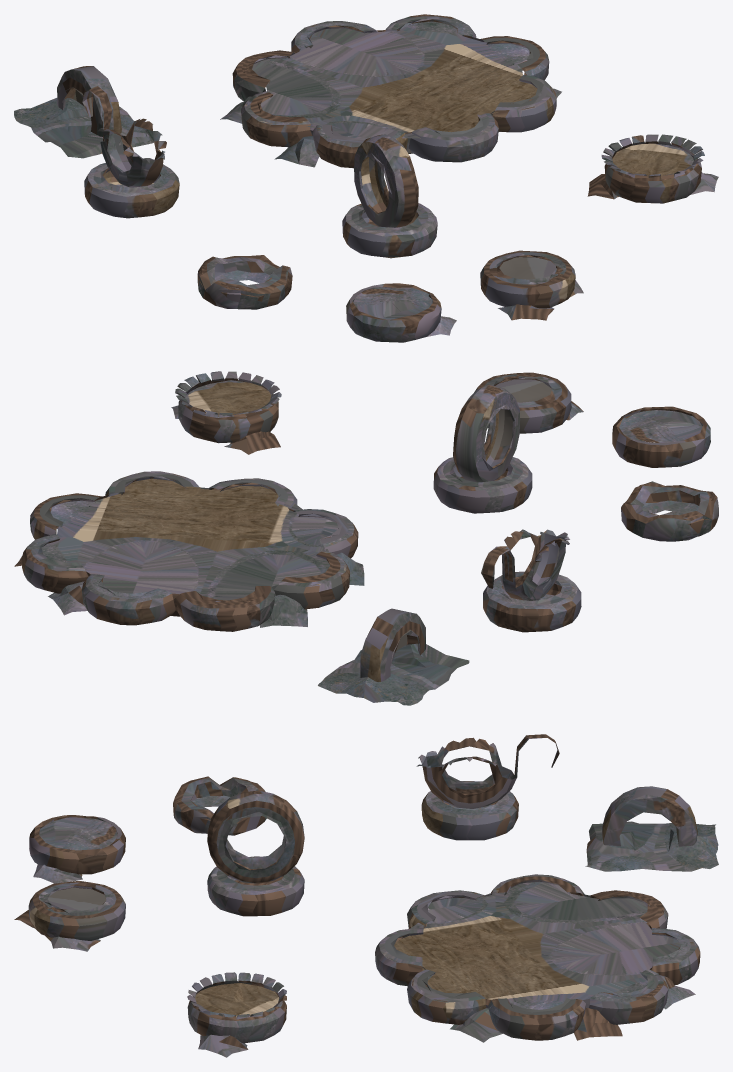
Rendered from КОЛЁСА_louPOLY.fbx.
3 views of the same model, one above another, from view 1: azimuth 30°, elevation 25°; view 2: azimuth 150°, elevation 25°; view 3: azimuth 270°, elevation 25° (orthographic). The views are drawn at different scales.
Parts seen in each view (by area): view 1: Окружность.008, Окружность.007, Окружность.002, Окружность.004, Окружность.003, Окружность.010, Окружность.006, Окружность.001; view 2: Окружность.008, Окружность.007, Окружность.003, Окружность.002, Окружность.004, Окружность.006, Окружность.001, Окружность.010; view 3: Окружность.008, Окружность.007, Окружность.003, Окружность.002, Окружность.004, Окружность.010, Окружность.006, Окружность.001.
Boxes of the visible parts, x1,y1,x2,y2 form: Окружность.008: (220,14,561,168); Окружность.007: (342,134,437,258); Окружность.002: (82,86,179,218); Окружность.004: (587,134,718,203); Окружность.003: (14,66,153,158); Окружность.010: (480,250,583,320); Окружность.006: (346,283,456,342); Окружность.001: (197,255,292,309); Окружность.008: (14,471,364,631); Окружность.007: (433,384,532,513); Окружность.003: (318,608,469,705); Окружность.002: (481,529,581,632); Окружность.004: (171,371,281,454); Окружность.006: (612,406,710,467); Окружность.001: (621,481,718,541); Окружность.010: (474,372,583,433); Окружность.008: (375,874,700,1042); Окружность.007: (207,790,304,916); Окружность.003: (585,786,718,871); Окружность.002: (416,734,559,840); Окружность.004: (187,972,286,1057); Окружность.010: (14,881,125,951); Окружность.006: (29,815,125,883); Окружность.001: (173,776,266,835).
Bounding box in the file's own units: 1701 × 336 × 1974.
